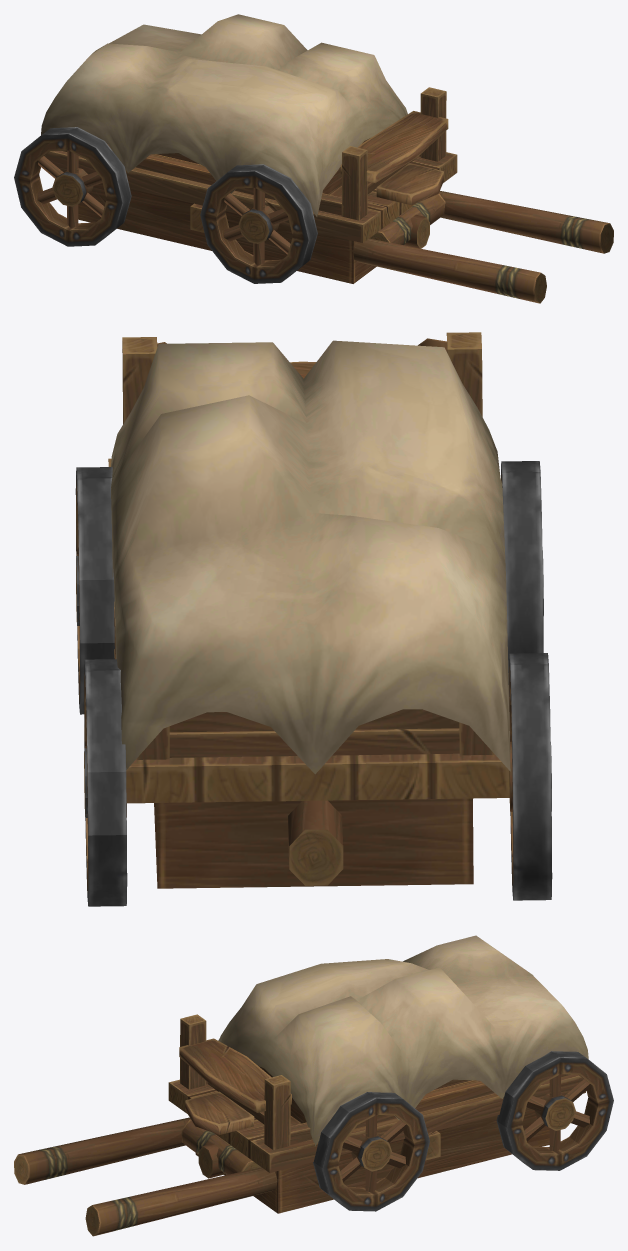
3 renders of one model, top to bottom at view 1: azimuth 30°, elevation 25°; view 2: azimuth 150°, elevation 25°; view 3: azimuth 270°, elevation 25°, orthographic. The views are drawn at different scales.
Parts seen in each view (by area): view 1: polySurface1206, wheel001, wheel002; view 2: polySurface1206, wheel002, wheel001; view 3: polySurface1206, wheel001, wheel002.
Part boxes in pixels (left/top/right/bottom): polySurface1206: left=41, top=14, right=613, bottom=303; wheel001: left=200, top=164, right=317, bottom=283; wheel002: left=14, top=127, right=131, bottom=246; polySurface1206: left=108, top=332, right=510, bottom=888; wheel002: left=84, top=653, right=552, bottom=906; wheel001: left=75, top=461, right=543, bottom=714; polySurface1206: left=14, top=935, right=588, bottom=1236; wheel001: left=218, top=1040, right=429, bottom=1211; wheel002: left=496, top=1051, right=613, bottom=1170.
Bounding box in the file's own units: 9.14 × 4.11 × 11.61.
